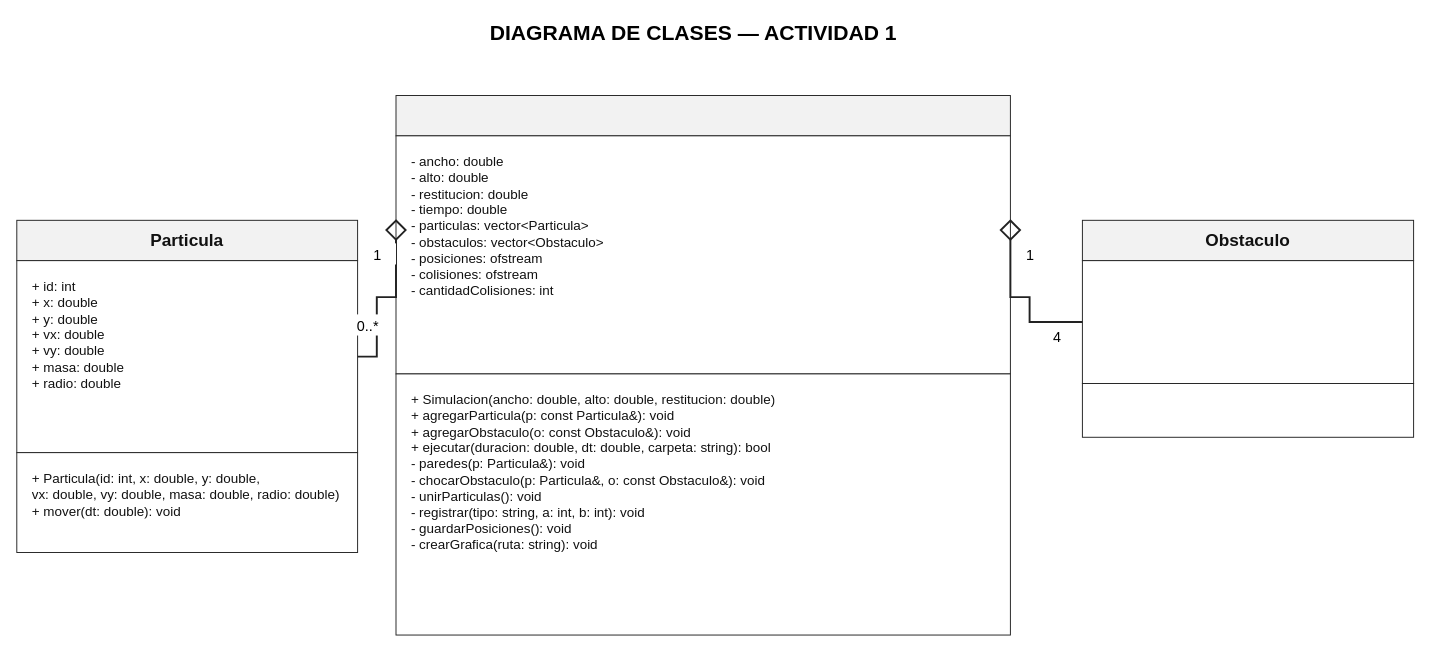
Image size: 1430x654. Some labels were removed from this diagram. Each missing label, with the centre of its shape:
+ id: int + x: double + y: double + lado: double: the point at 1247,322
+ Obstaculo(id: int, x: double, y: double, lado: double): the point at 1247,410
Simulacion: the point at 702,115
